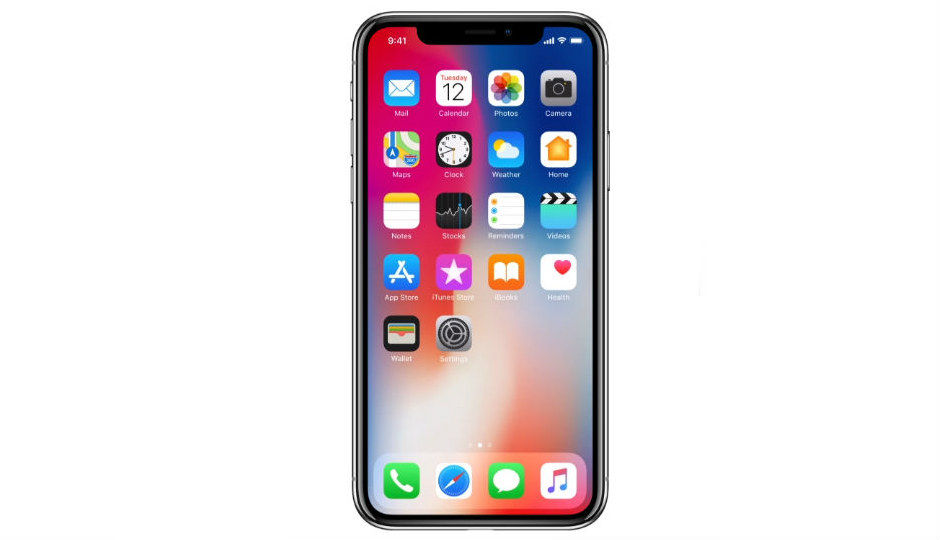phone: (347, 6, 617, 533)
